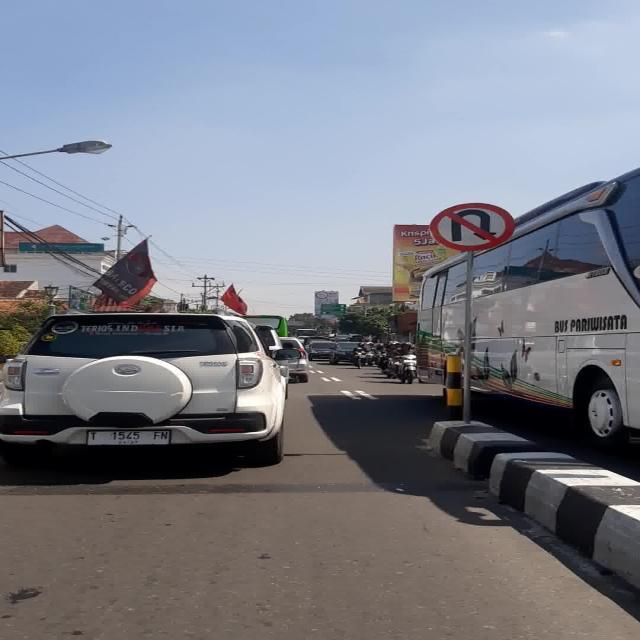Dilarang Putar Balik: (430, 202, 514, 250)
